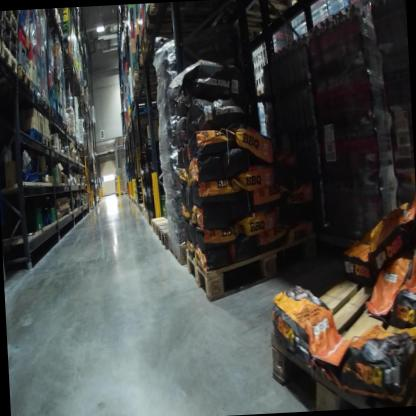pallet: (257, 260, 416, 407), (178, 213, 327, 307), (141, 1, 255, 41), (138, 28, 207, 68), (168, 223, 199, 268), (0, 43, 22, 88), (17, 121, 46, 148), (17, 81, 43, 110), (156, 221, 181, 251), (149, 212, 170, 238), (1, 33, 20, 61), (1, 15, 18, 44), (15, 64, 32, 89), (49, 25, 66, 49), (44, 101, 58, 121), (3, 11, 17, 28), (50, 109, 64, 126), (38, 96, 51, 114), (0, 12, 6, 39), (43, 133, 52, 147), (0, 26, 3, 53)
